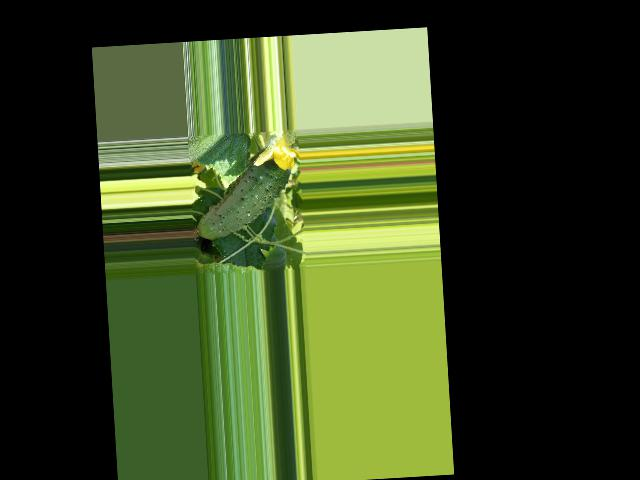cucumber: (187, 147, 294, 241)
